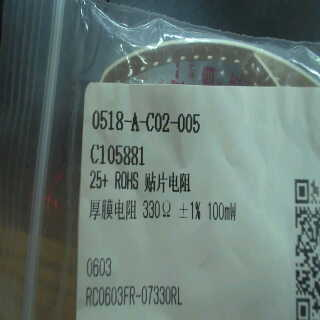330R: (140, 197, 172, 222)
